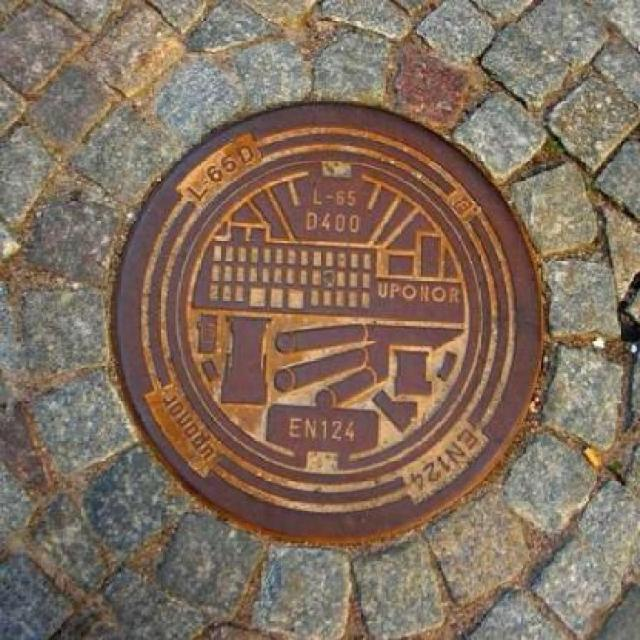Manhole: (91, 87, 560, 566)
